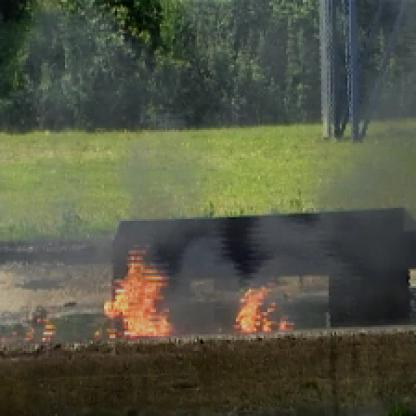Fire: (98, 226, 192, 342), (232, 269, 297, 344)
Smoke: (99, 102, 414, 353)
